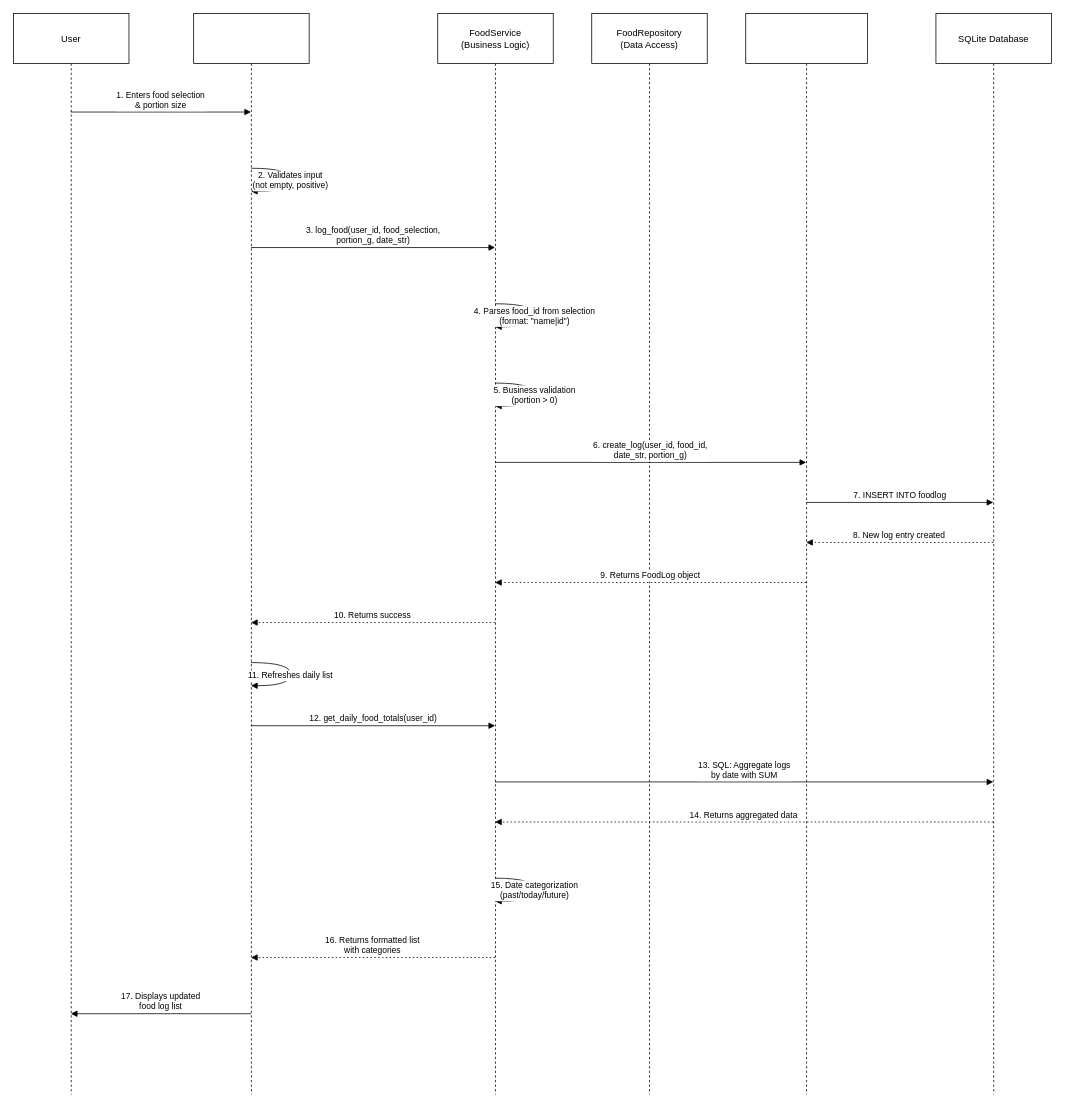
This 1065x1108 diagram has some shape labels left out. The box of each missing label's shape, as (x1, y1, x2, y2) in pixels:
FoodLogRepository (Data Access): (745, 13, 867, 1095)
FoodView (UI Layer): (193, 13, 309, 1095)
